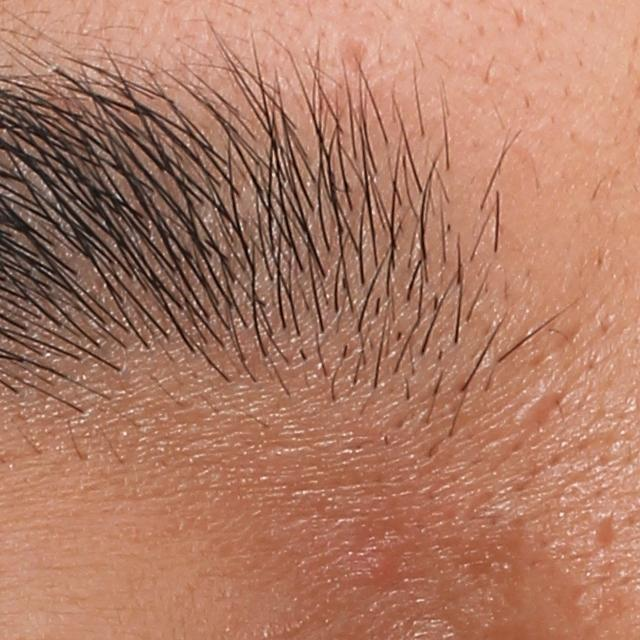atrophic_scar: (502, 376, 577, 456), (523, 308, 586, 372), (334, 32, 370, 73), (594, 511, 620, 551)
papule: (368, 554, 399, 590)
